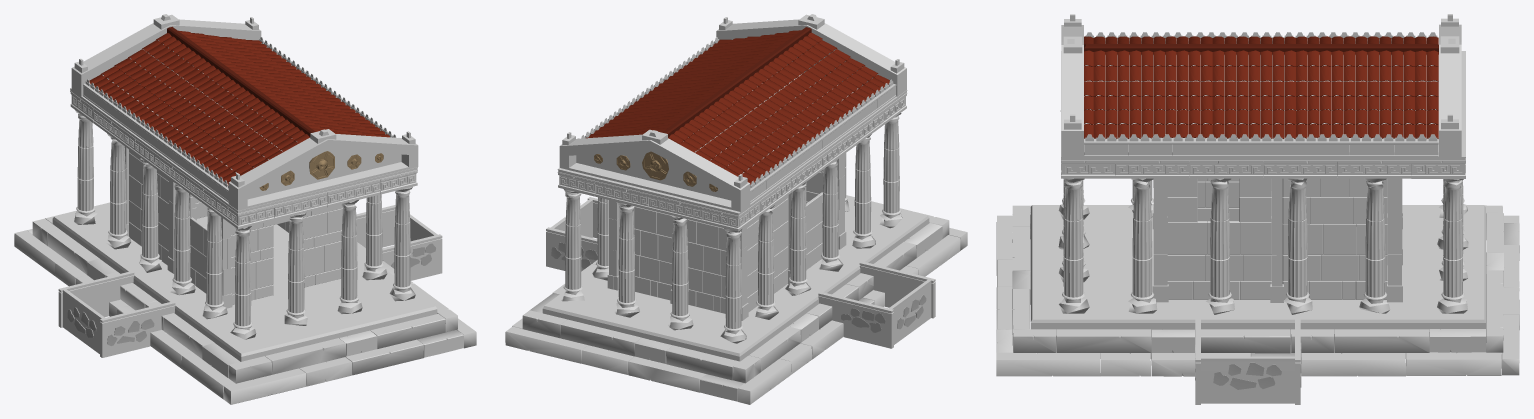
Rendered from greek_style_ancient_temple.glb.
The picture shows the model from 3 angles, left to right: view 1: azimuth 30°, elevation 25°; view 2: azimuth 150°, elevation 25°; view 3: azimuth 270°, elevation 25°; orthographic projection. The views are drawn at different scales.
Parts seen in each view (by area): view 1: Object_276, Object_443, Object_445, Object_1100, Object_450; view 2: Object_276, Object_443, Object_445, Object_1100, Object_450; view 3: Object_276, Object_443, Object_445, Object_1100.
Part boxes in pixels (x1=…): Object_276: x1=14, y1=14, x2=476, y2=404; Object_443: x1=89, y1=30, x2=389, y2=185; Object_445: x1=167, y1=26, x2=315, y2=137; Object_1100: x1=67, y1=243, x2=435, y2=345; Object_450: x1=259, y1=151, x2=383, y2=190; Object_276: x1=505, y1=14, x2=967, y2=404; Object_443: x1=586, y1=30, x2=889, y2=184; Object_445: x1=662, y1=27, x2=811, y2=137; Object_1100: x1=551, y1=242, x2=926, y2=332; Object_450: x1=594, y1=151, x2=717, y2=191; Object_276: x1=996, y1=14, x2=1519, y2=404; Object_443: x1=1084, y1=36, x2=1438, y2=138; Object_445: x1=1084, y1=44, x2=1438, y2=54; Object_1100: x1=1195, y1=343, x2=1301, y2=389.
Size of the model in its own units: 113 by 70.18 by 125.
